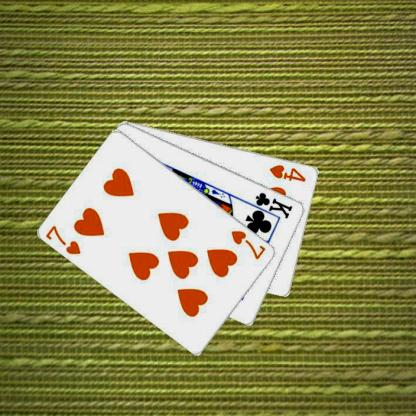4H: (267, 161, 307, 183)
7H: (43, 222, 83, 256), (229, 228, 267, 261)
KC: (246, 190, 294, 220)
